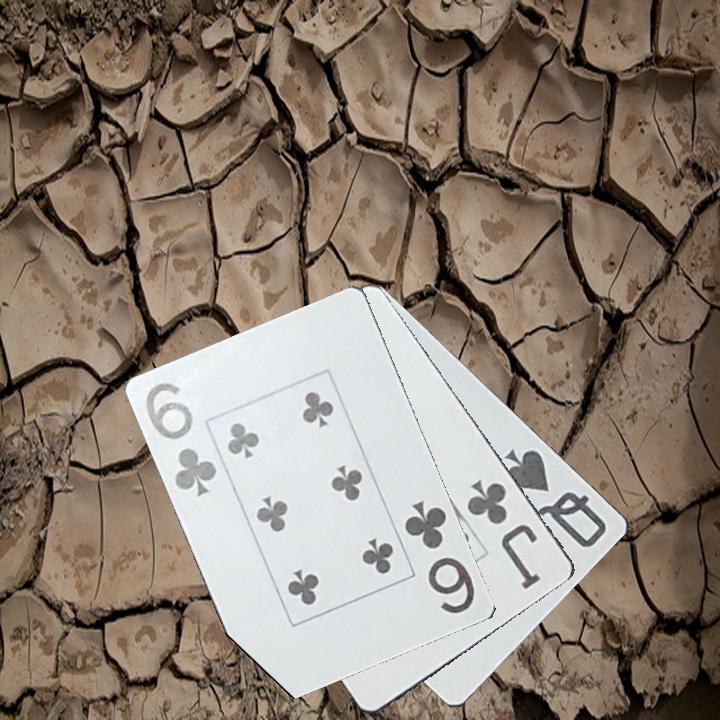6c: (142, 379, 221, 501), (401, 497, 479, 617)
Jc: (463, 475, 545, 593)
Qs: (501, 445, 611, 551)
